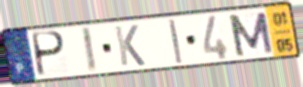4: (202, 13, 231, 62)
I: (79, 25, 99, 74), (167, 18, 184, 66)
K: (113, 24, 148, 68)
M: (226, 10, 276, 58)
P: (31, 30, 68, 79)
